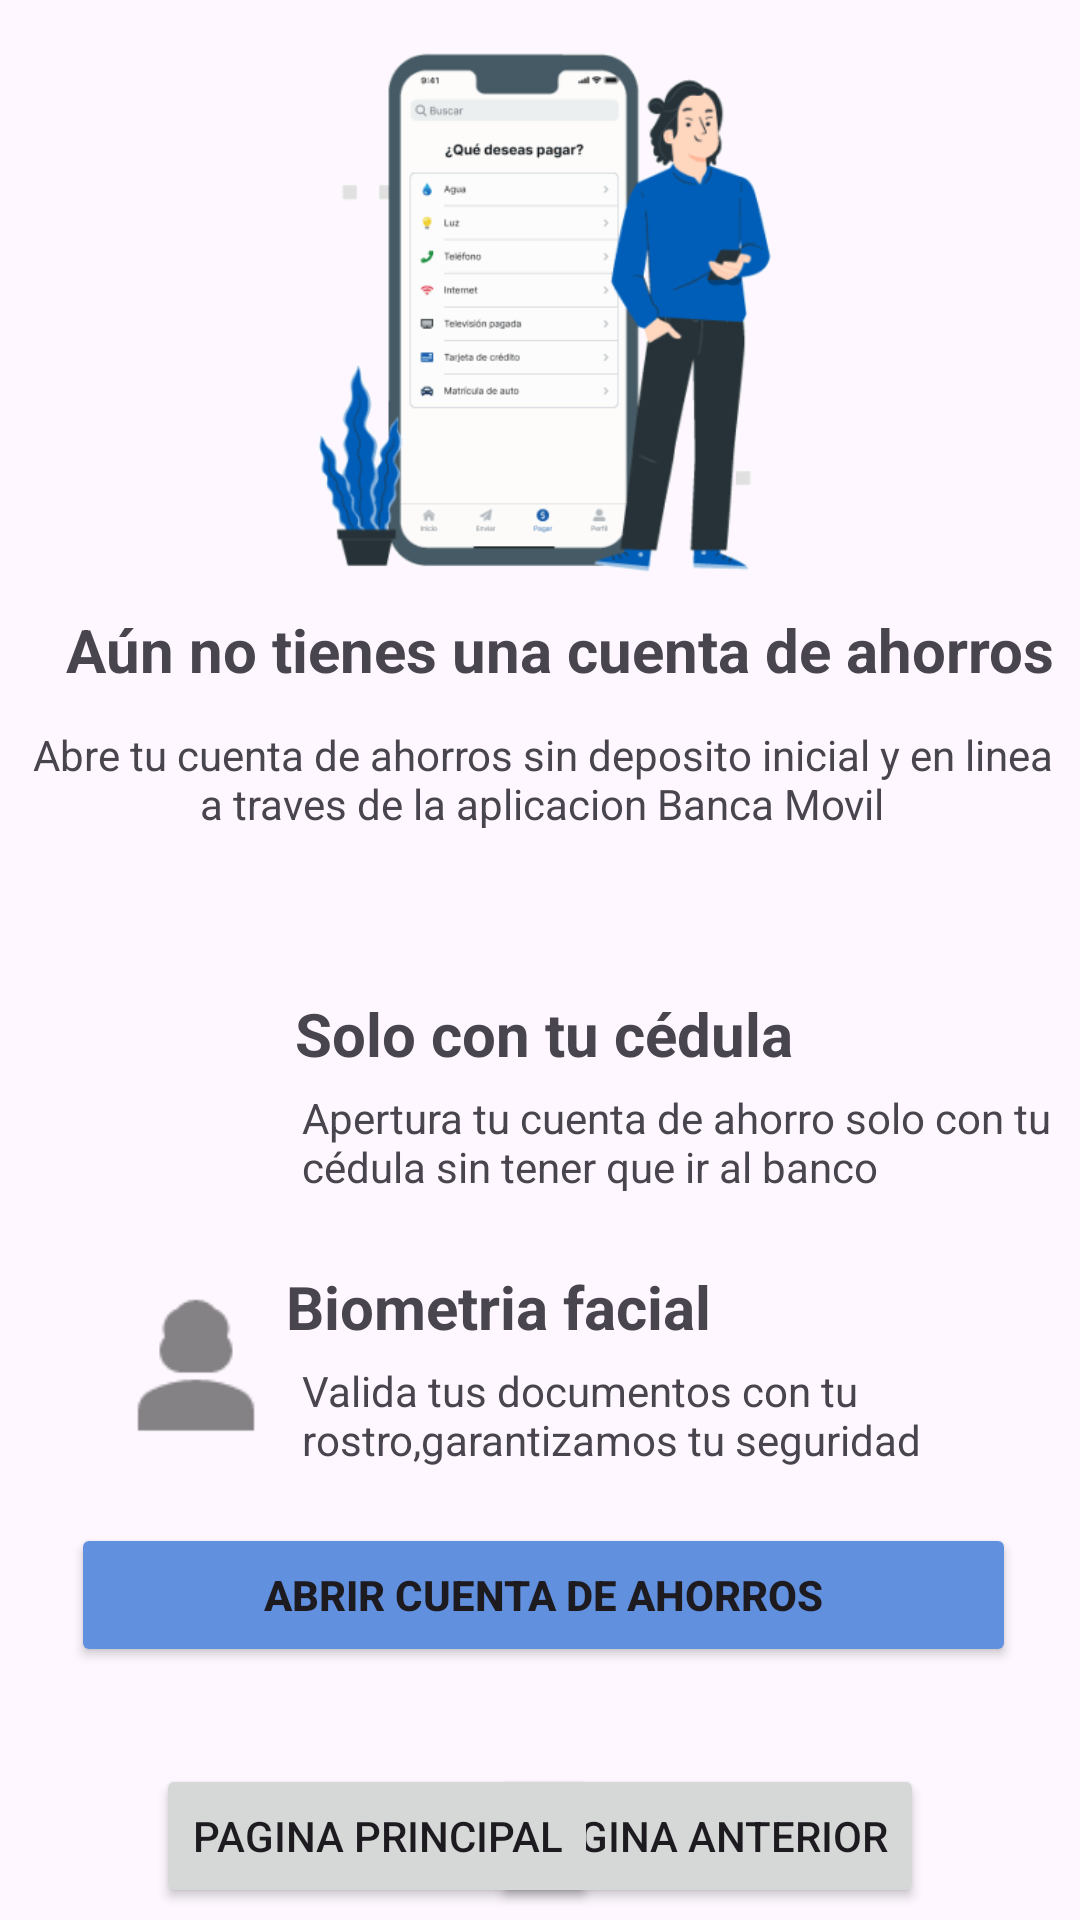

Point at icon controls on the screen. Image size 1080px x 1920px, points as [x,y].
personita: [196,1365]
